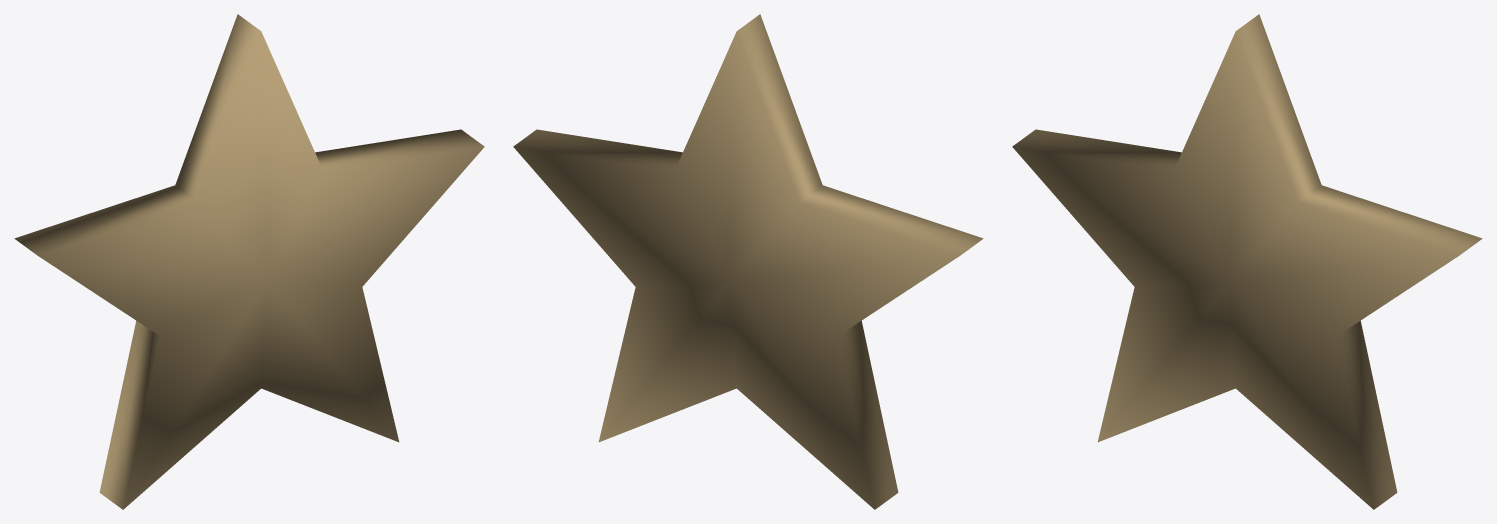
The model's file is wear_meteor.glb.
3 views of the same model, side by side, from view 1: azimuth 30°, elevation 25°; view 2: azimuth 150°, elevation 25°; view 3: azimuth 330°, elevation 25° (orthographic).
Visible parts, largest first — view 1: Spin; view 2: Spin; view 3: Spin.
Boxes of the visible parts, x1,y1,x2,y2 form: Spin: [14, 14, 484, 509]; Spin: [513, 14, 983, 509]; Spin: [1012, 14, 1482, 509].
Bounding box in the file's own units: 0.2187 × 0.208 × 0.03.
